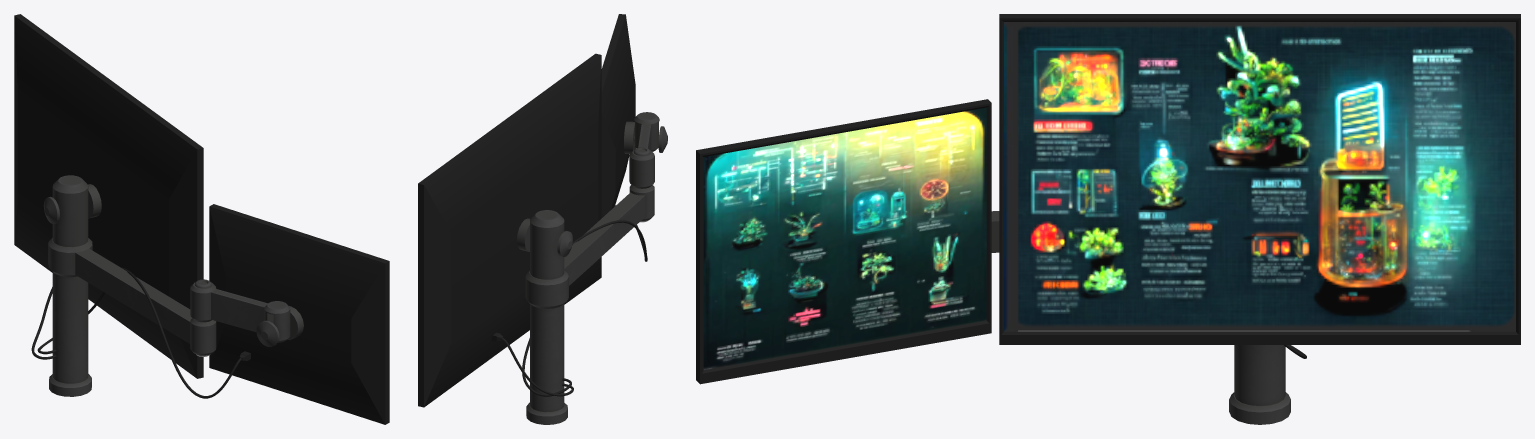
The model's file is DisplayMoniter.fbx.
The picture shows the model from 3 angles, left to right: view 1: azimuth 30°, elevation 25°; view 2: azimuth 150°, elevation 25°; view 3: azimuth 270°, elevation 25°; orthographic projection. The views are drawn at different scales.
Parts seen in each view (by area): view 1: DisplayMoniter; view 2: DisplayMoniter; view 3: DisplayMoniter.
Part boxes in pixels (bbox=[...]): DisplayMoniter: bbox=[14, 14, 389, 424]; DisplayMoniter: bbox=[418, 14, 667, 424]; DisplayMoniter: bbox=[696, 14, 1520, 424].
Size of the model in its own units: 32.55 by 60.22 by 107.
